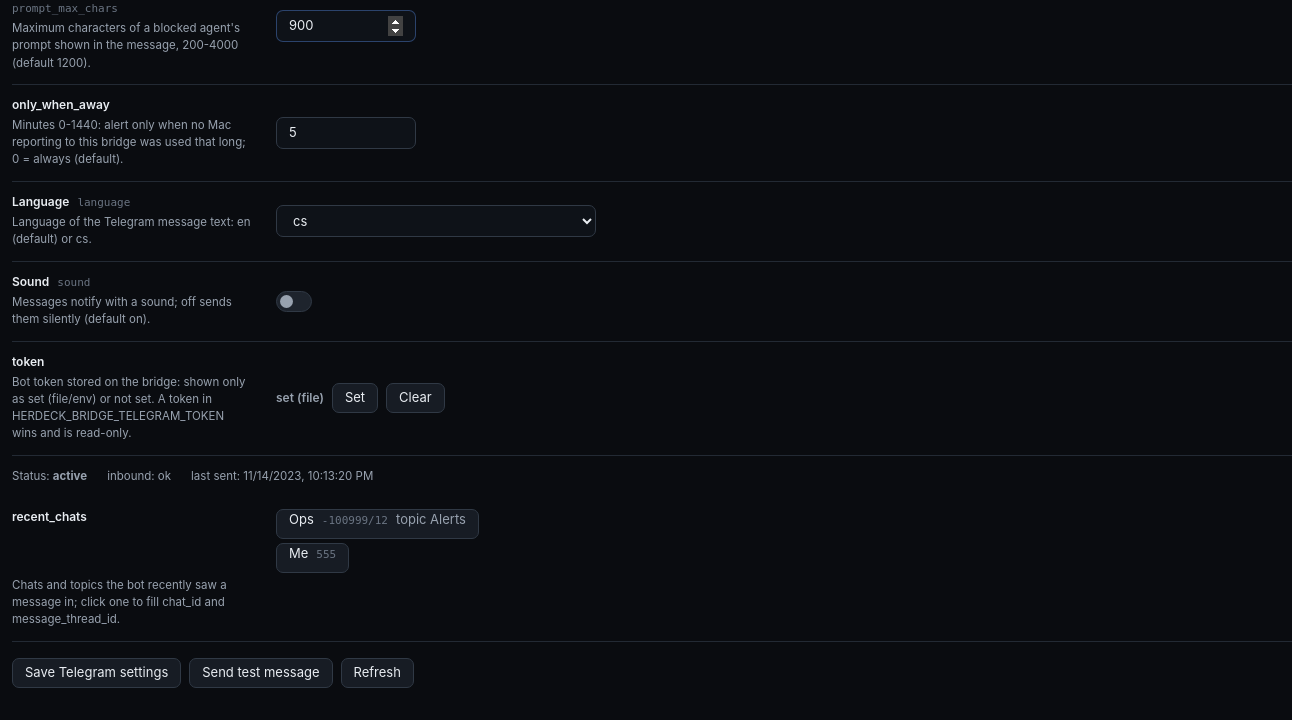
bridge form › 422 shows the bridge's messages
(page scrolled)
Click the button "Save Telegram settings".
click(97, 673)  # box [12,658,181,688]
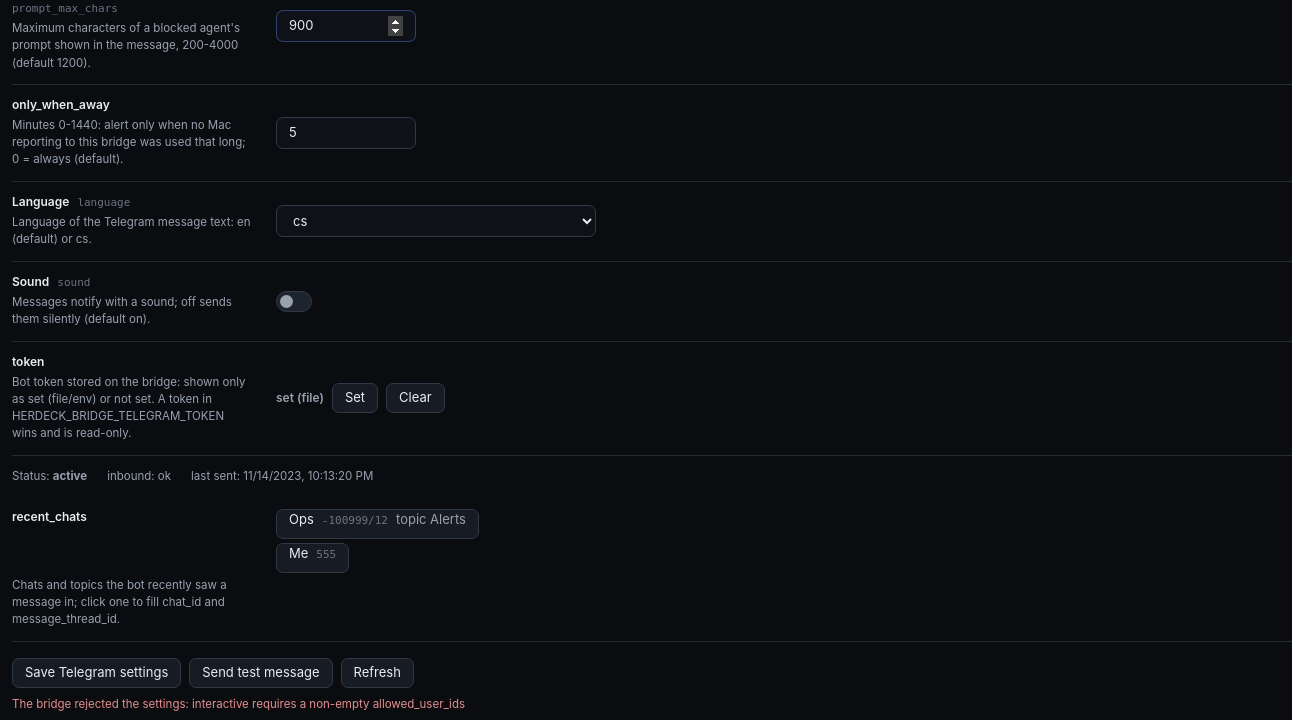
Result: the message shows "interactive requires" at [12,697,465,711]
